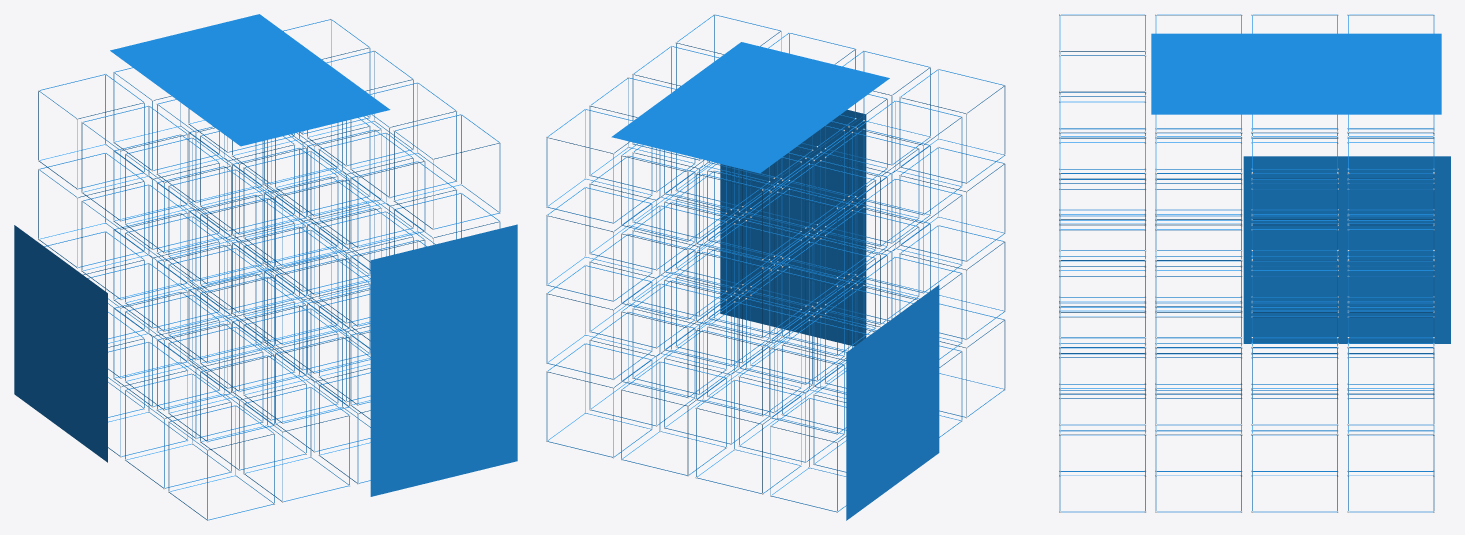
3 views of the same model, side by side, from view 1: azimuth 30°, elevation 25°; view 2: azimuth 150°, elevation 25°; view 3: azimuth 270°, elevation 25° (orthographic). The views are drawn at different scales.
Parts seen in each view (by area): view 1: Cube.001; view 2: Cube.001; view 3: Cube.001.
Boxes of the visible parts, box(x1,y1,x2,y2) form: Cube.001: box(14, 14, 517, 520); Cube.001: box(546, 14, 1005, 520); Cube.001: box(1059, 14, 1450, 512).
Bounding box in the file's own units: 0.9276 × 0.9303 × 0.9596.
